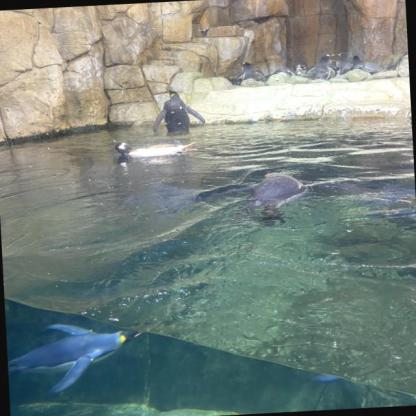penguin: (6, 319, 149, 397), (231, 170, 307, 229), (150, 82, 206, 135), (115, 138, 198, 163), (305, 53, 337, 83), (235, 61, 264, 87), (389, 48, 409, 73), (344, 55, 364, 78), (359, 60, 380, 76), (269, 66, 293, 80), (294, 62, 308, 76)
